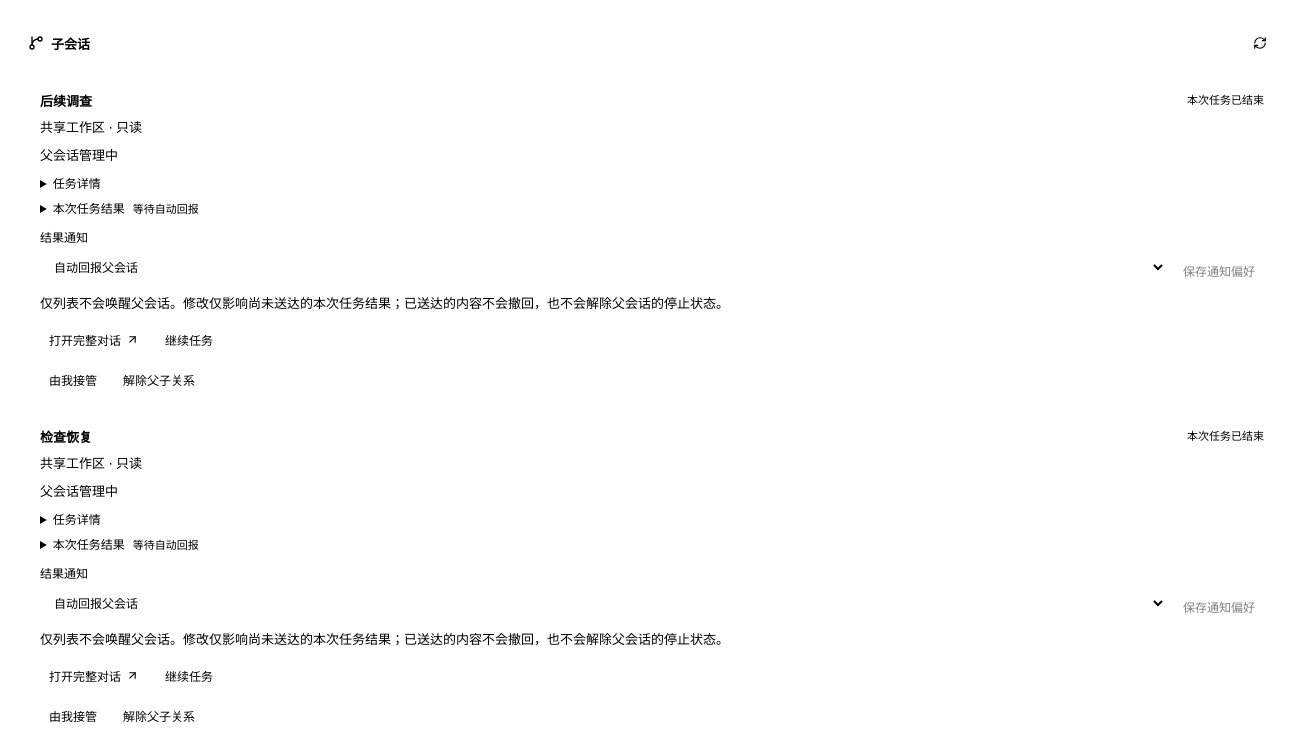
it: keeps a selected prerequisite visible for removal after it is taken over
The image size is (1292, 744).
Click the button "继续任务" below "后续调查": click(189, 339) [156,325,222,353]
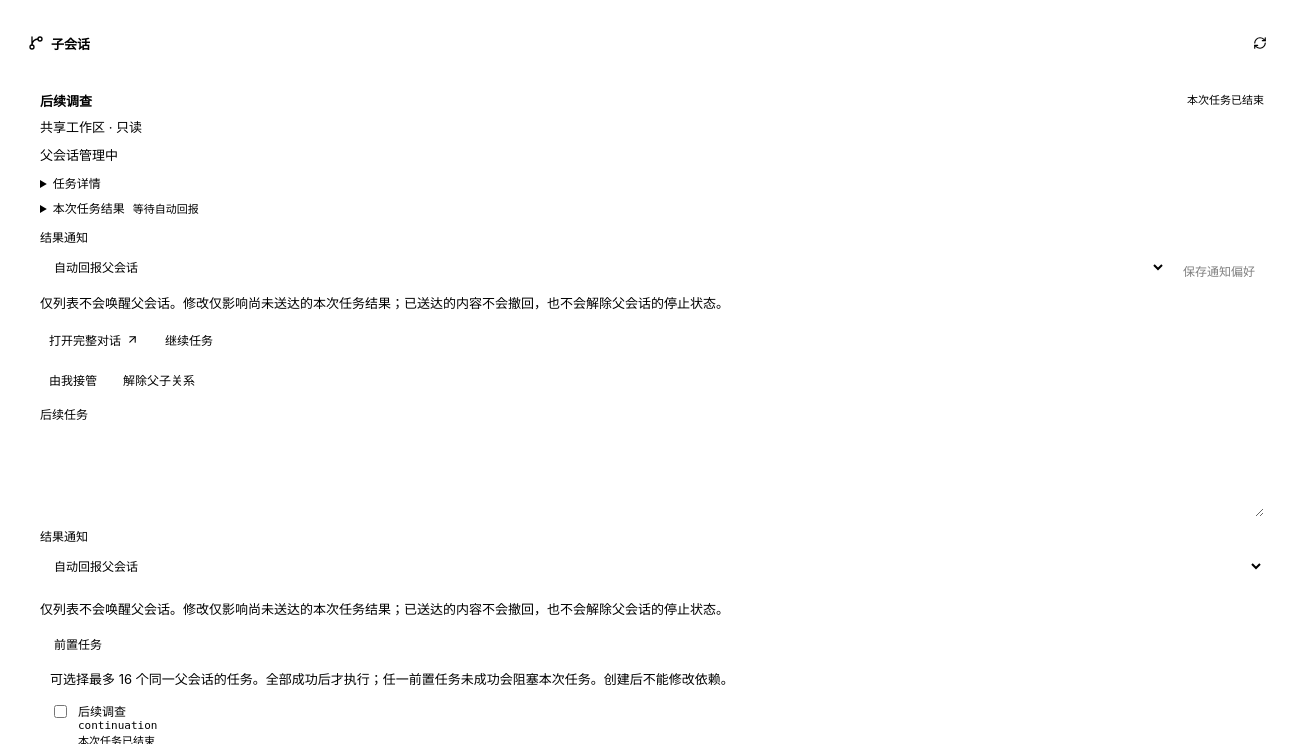
In the text box labelled "后续任务": (652, 472) [40,427,1264,517], type "保留子任务草稿"
(page scrolled)
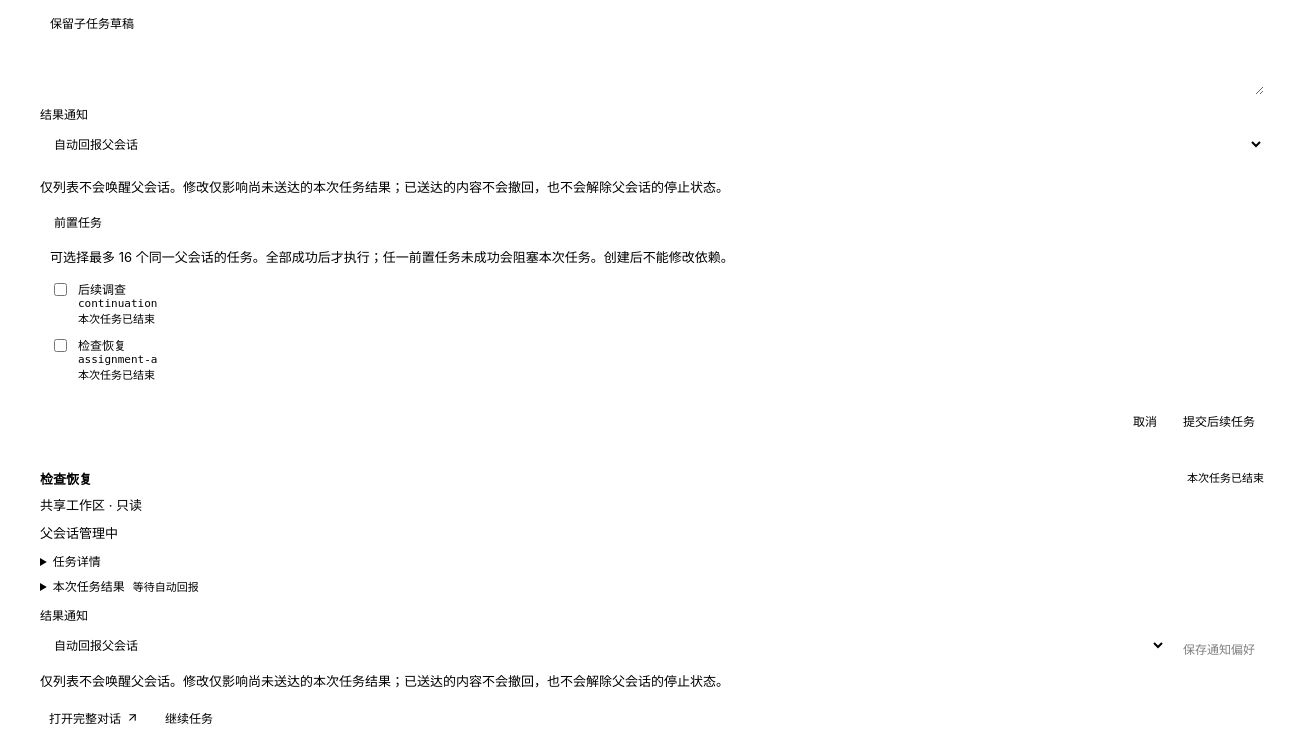
Click the checkbox labelled "检查恢复 assignment-a 本次任务已结束": click(60, 346) [54,339,67,352]
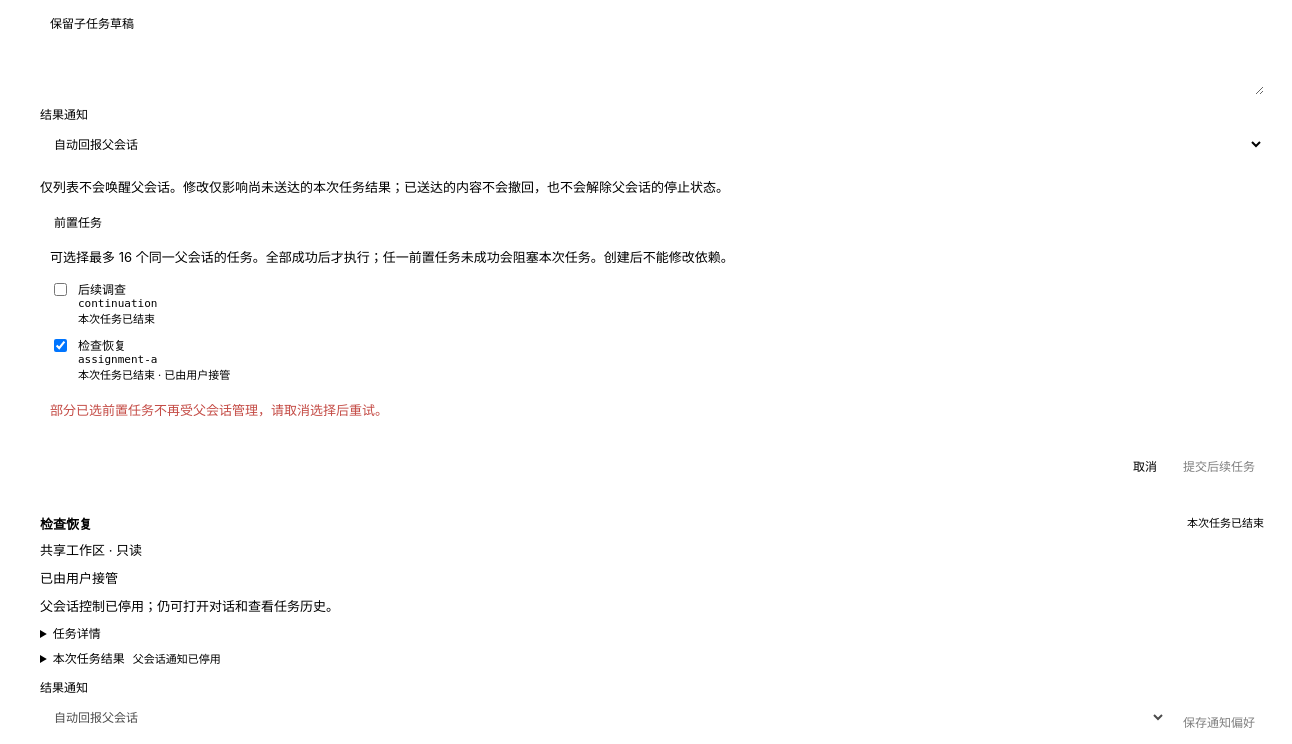
Check: the text "部分已选前置任务不再受父会话管理，请取消选择后重试。" is shown, box [50,402,388,418]
Check: the button "提交后续任务" is disabled, box [1174,452,1264,480]
Click the checkbox labelled "检查恢复 assignment-a 本次任务已结束 · 已由用户接管": click(60, 346) [54,339,67,352]
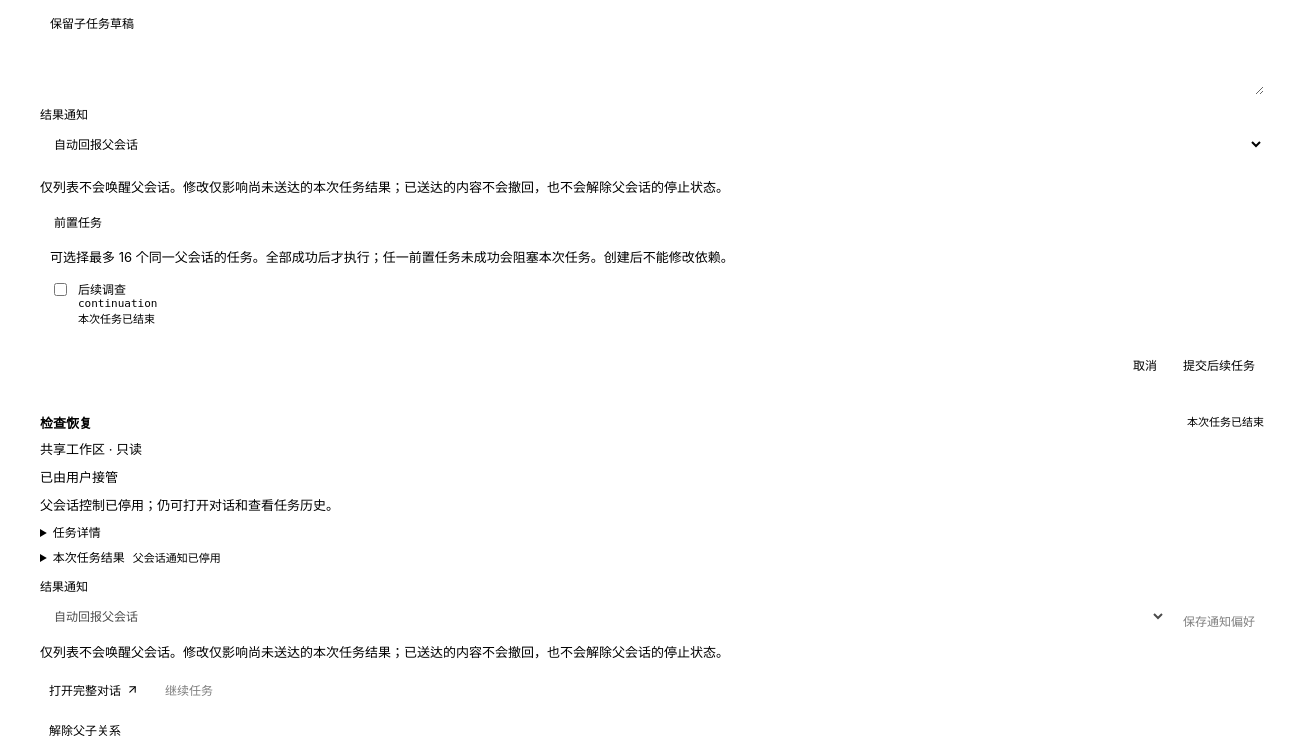
Check: the button "提交后续任务" is enabled, box [1174,351,1264,379]
